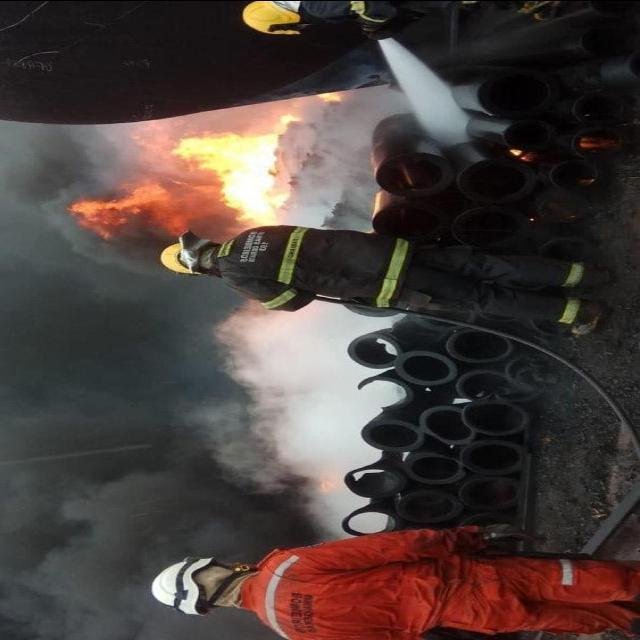Fire: (74, 110, 302, 242), (315, 90, 341, 104)
